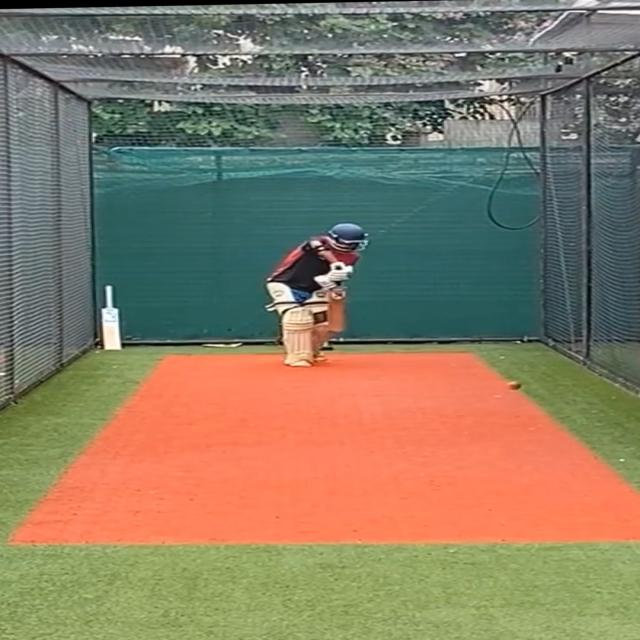ball: (502, 378, 525, 393)
